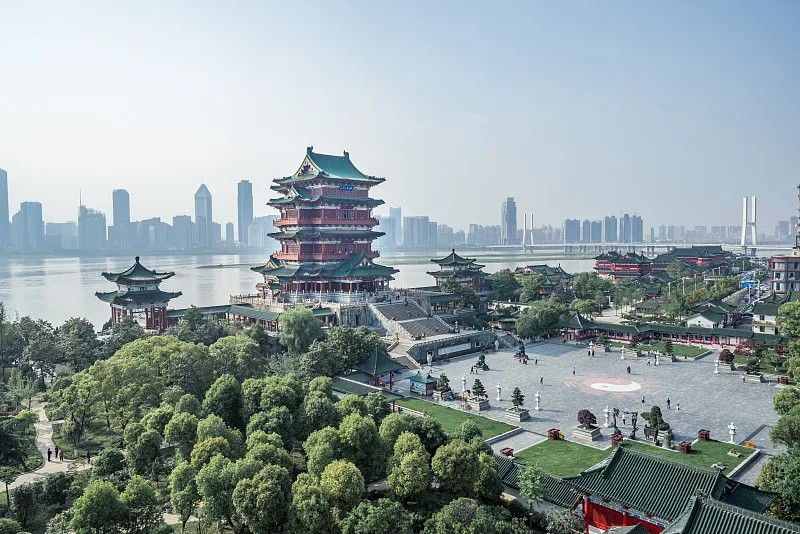Teng: (249, 145, 400, 295)
